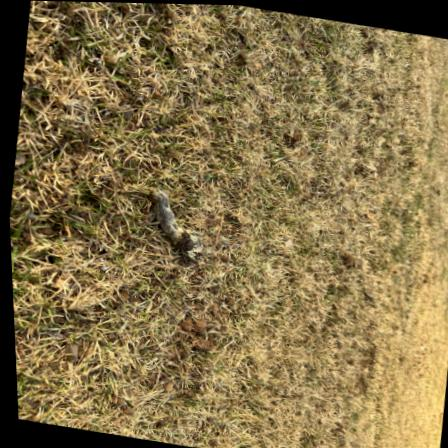dog-poop: (132, 182, 223, 274)
